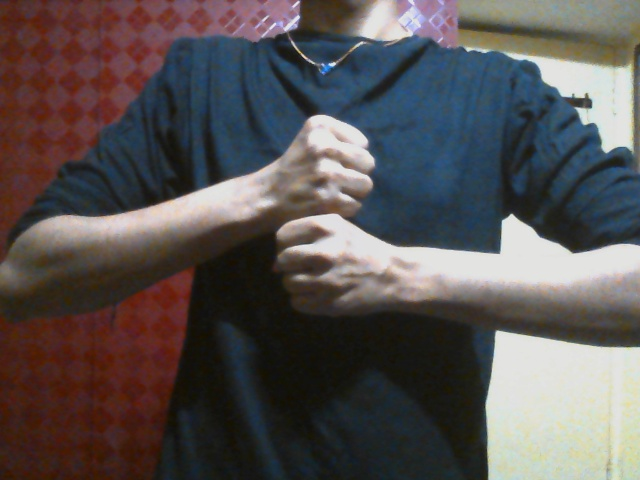G: (270, 111, 399, 320)
